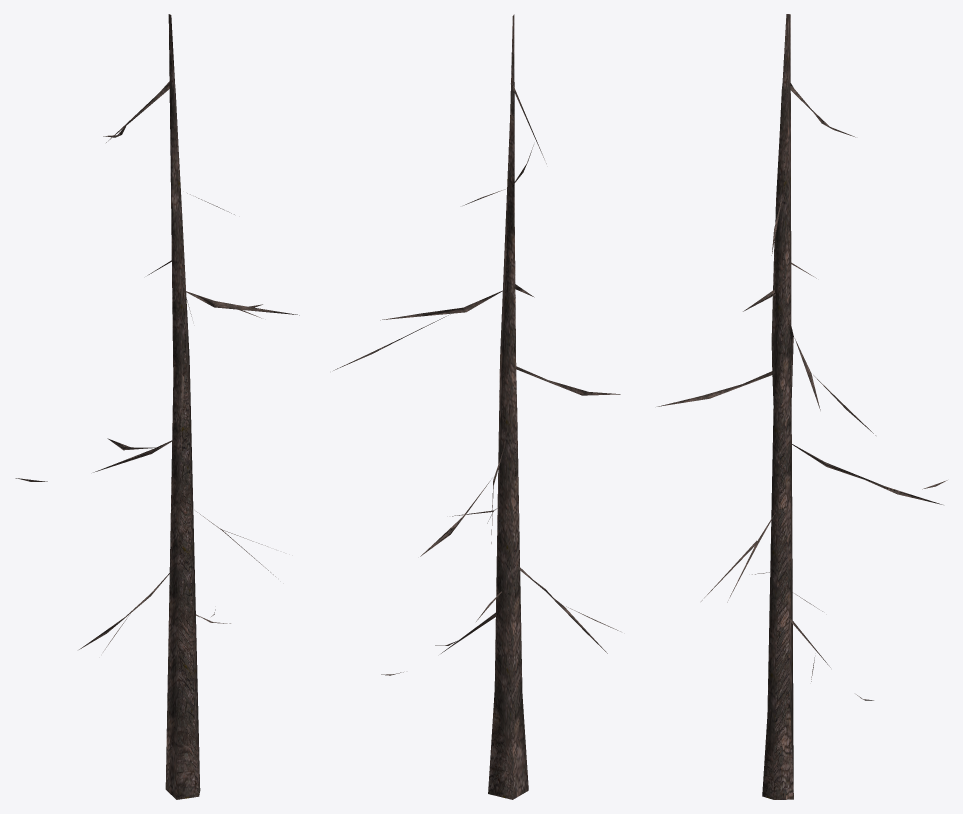
The model's file is dead_conifer_0_lod2.glb.
3 views of the same model, side by side, from view 1: azimuth 30°, elevation 25°; view 2: azimuth 150°, elevation 25°; view 3: azimuth 270°, elevation 25° (orthographic).
Parts seen in each view (by area): view 1: dead_conifer_0_lod2; view 2: dead_conifer_0_lod2; view 3: dead_conifer_0_lod2.
Boxes of the visible parts, bbox=[...] form: dead_conifer_0_lod2: bbox=[15, 14, 299, 799]; dead_conifer_0_lod2: bbox=[333, 14, 620, 799]; dead_conifer_0_lod2: bbox=[657, 14, 947, 799].
Size of the model in its own units: 5.04 by 16.08 by 5.52.
1 material, 1 textured.
